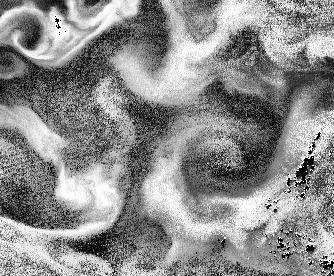AE: (143, 113, 281, 239), (9, 6, 55, 59)
